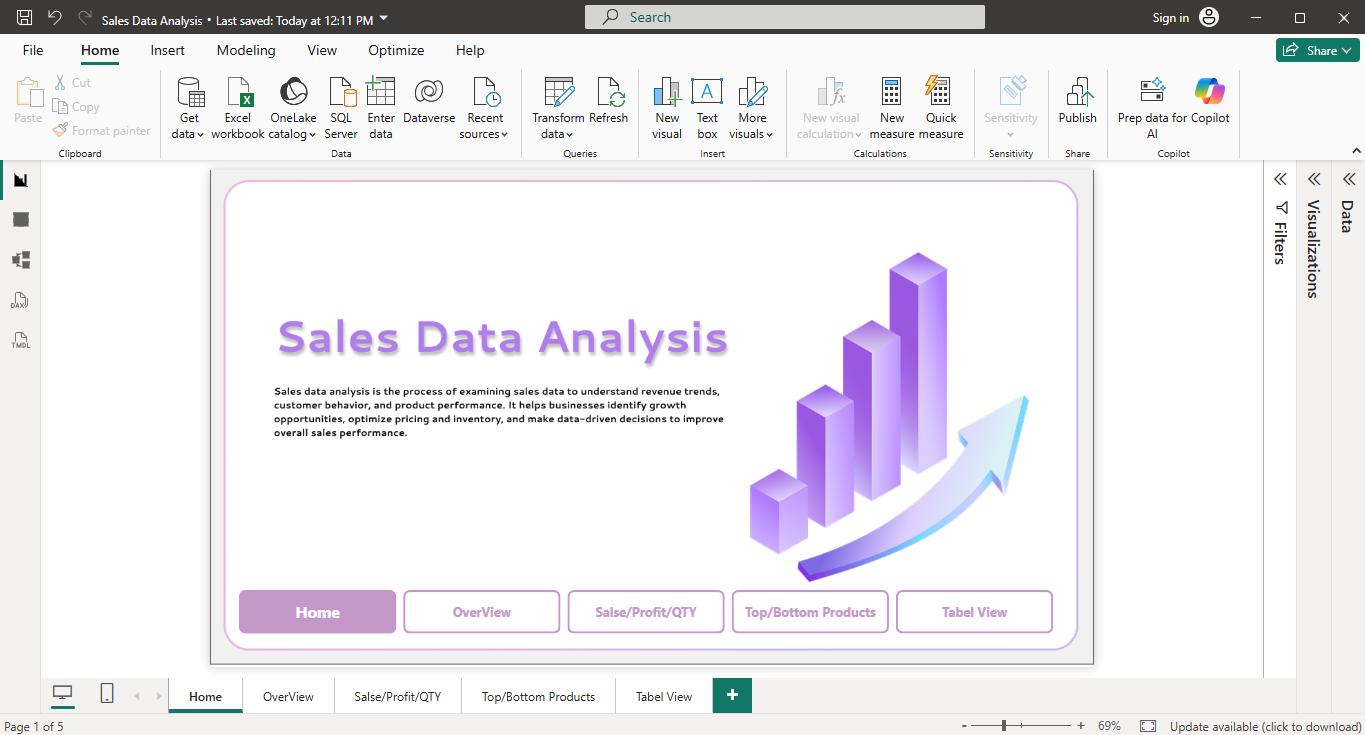

The page's visual inventory and layout, read from the dashboard file:
{"tool":"powerbi","page":{"name":"Home","canvas":[1280,720],"ordinal":0},"visuals":[{"type":"pageNavigator","box":[41.5,609.2,1181.5,63.1],"z":0}]}

Visuals, with their boxes on the page's 1280x720 design canvas (x1, y1, x2, y2). These are canvas units, not pixel positions in the 1365x735 screenshot, which may show the page scaled, cropped or inside an application window:
pageNavigator: <box>42,609,1223,672</box>
